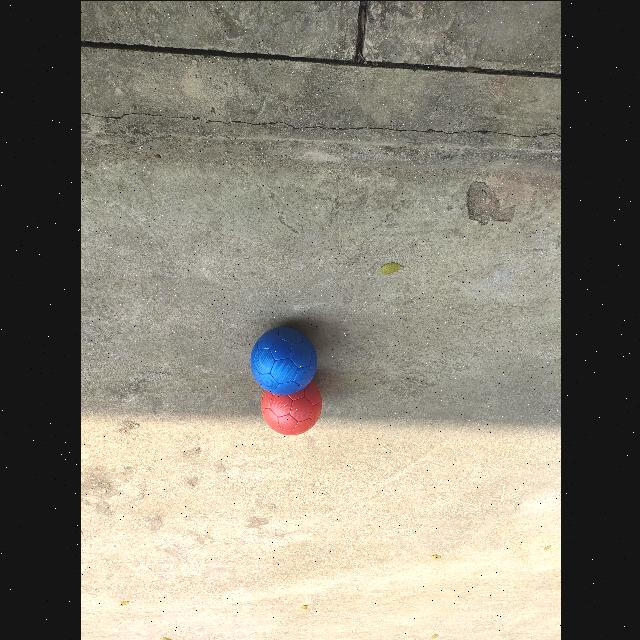B: (250, 326, 317, 394)
R: (260, 380, 321, 434)
